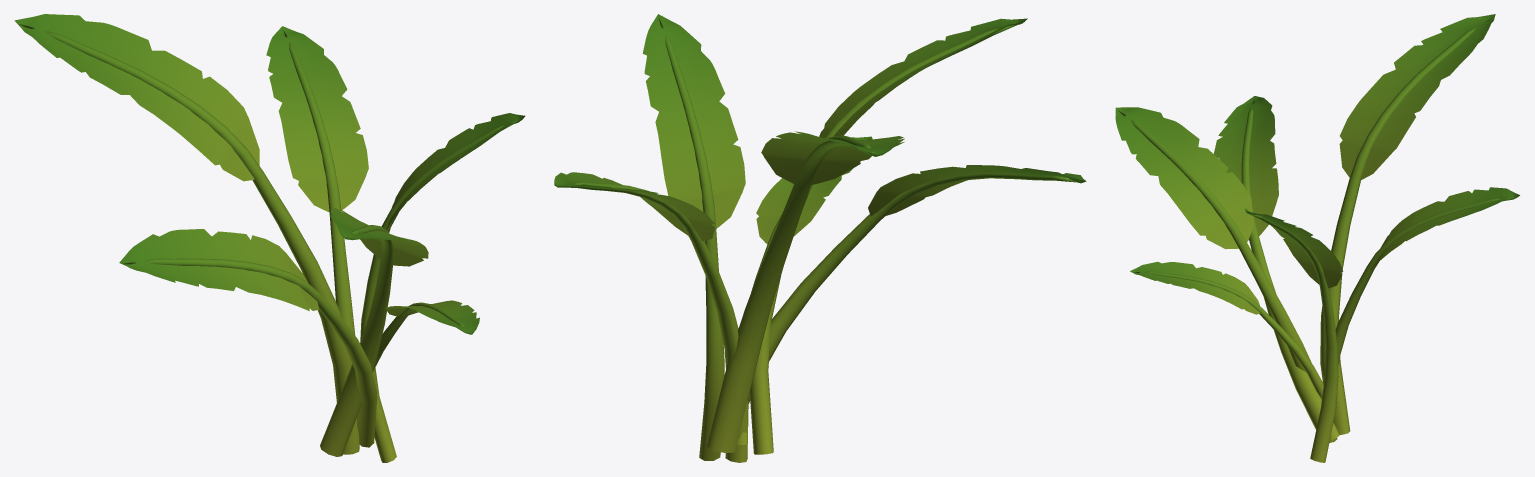
File: MDL_E_BananaTree_02.fbx
The picture shows the model from 3 angles, left to right: view 1: azimuth 30°, elevation 25°; view 2: azimuth 150°, elevation 25°; view 3: azimuth 270°, elevation 25°; orthographic projection. The views are drawn at different scales.
Visible parts, largest first — view 1: Plane.036, Plane.041, Plane.038, Plane.037, Plane.040, Plane.039; view 2: Plane.040, Plane.036, Plane.037, Plane.038, Plane.041, Plane.039; view 3: Plane.036, Plane.037, Plane.038, Plane.040, Plane.041, Plane.039.
Boxes of the visible parts, box(x1,y1,x2,y2) form: Plane.036: box(14, 14, 351, 402); Plane.041: box(266, 26, 368, 454); Plane.038: box(119, 229, 377, 447); Plane.037: box(320, 208, 428, 456); Plane.040: box(360, 113, 525, 462); Plane.039: box(372, 300, 479, 372); Plane.040: box(642, 14, 745, 460); Plane.036: box(707, 131, 904, 452); Plane.037: box(750, 18, 1027, 454); Plane.038: box(748, 165, 1086, 403); Plane.041: box(554, 172, 748, 462); Plane.039: box(736, 136, 872, 444); Plane.036: box(1320, 14, 1495, 434); Plane.037: box(1115, 107, 1311, 372); Plane.038: box(1214, 96, 1339, 441); Plane.040: box(1245, 208, 1343, 462); Plane.041: box(1323, 187, 1519, 442); Plane.039: box(1130, 261, 1323, 398).
Bounding box in the file's own units: 365 × 371 × 394.
